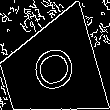O_W: (23, 42, 78, 99)
